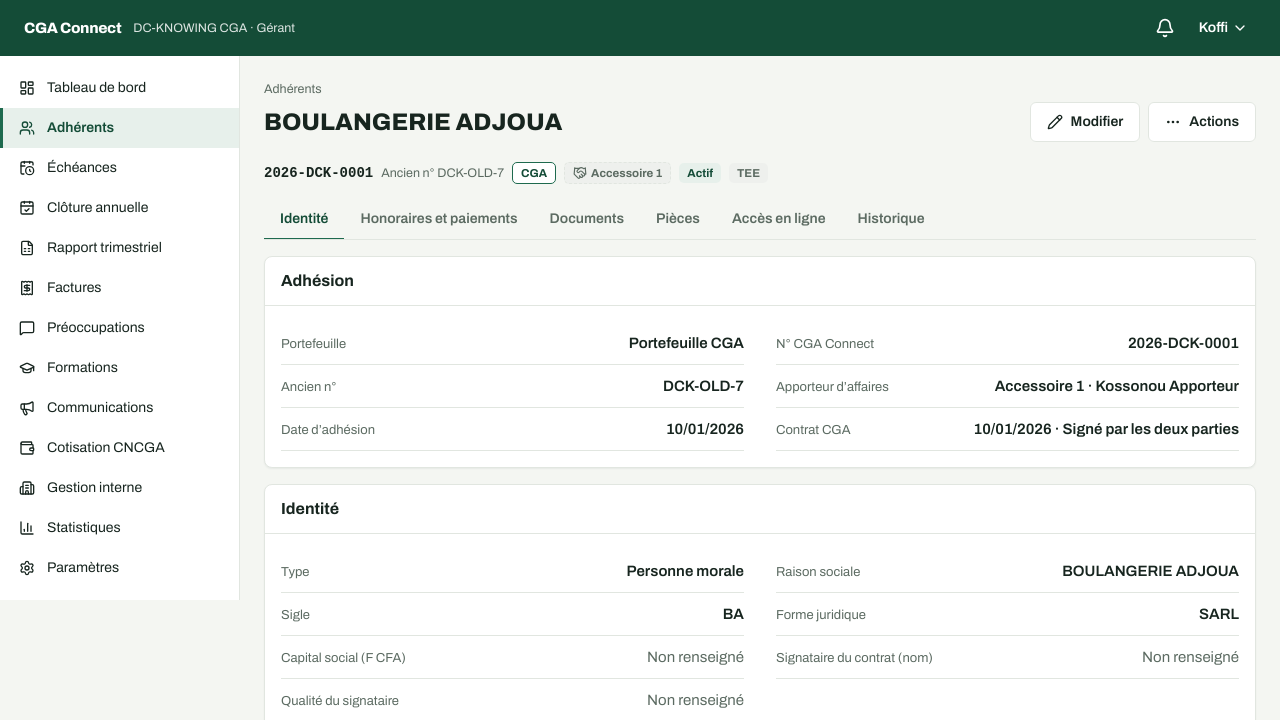
/cga/adherents/:id · Honoraires et paiements (F-PAY-01 à 03) › F-PAY-03 · paiement déclaré par l’adhérent : « Examiner » → Confirmer, reçu attribué
This screenshot has width=1280, height=720.
Expected: the heading "BOULANGERIE ADJOUA" is shown, [264,106,562,138]
Step 1. Click the tab "Honoraires et paiements" → (439, 220), box [344,200,534,240]
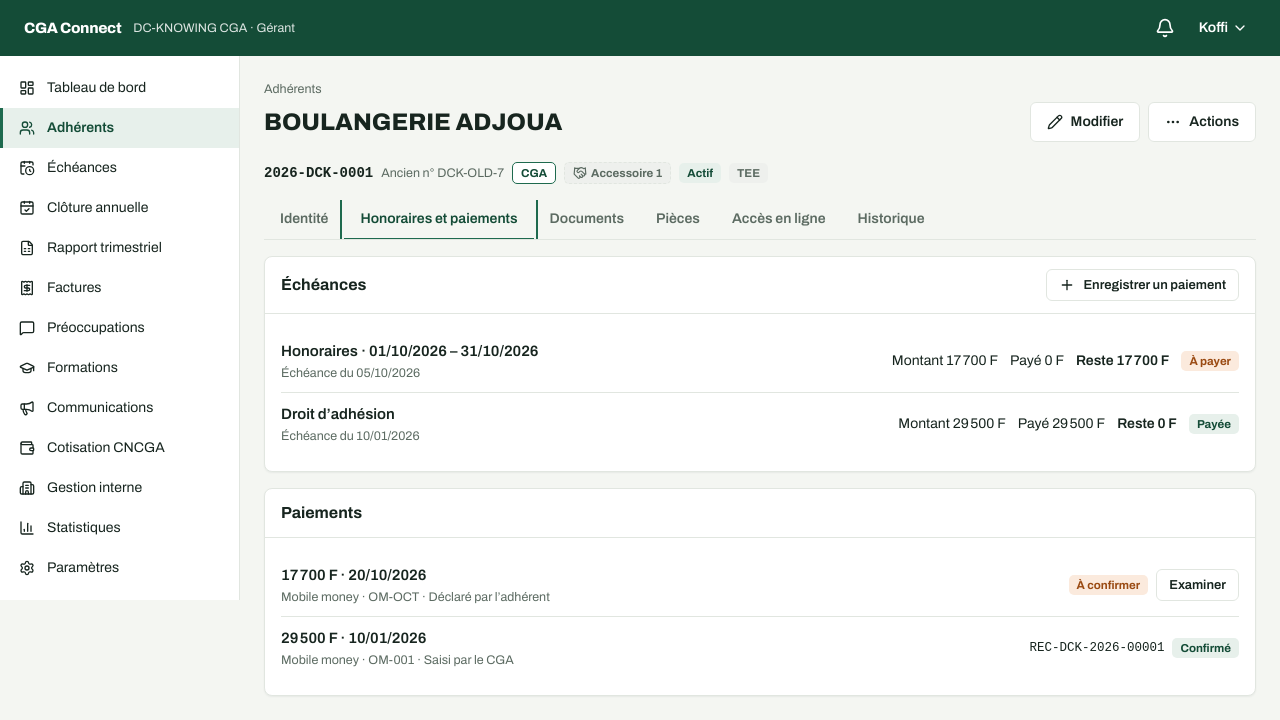
Step 2. Click the button "Examiner" → (1198, 585), box [1156,569,1239,601]
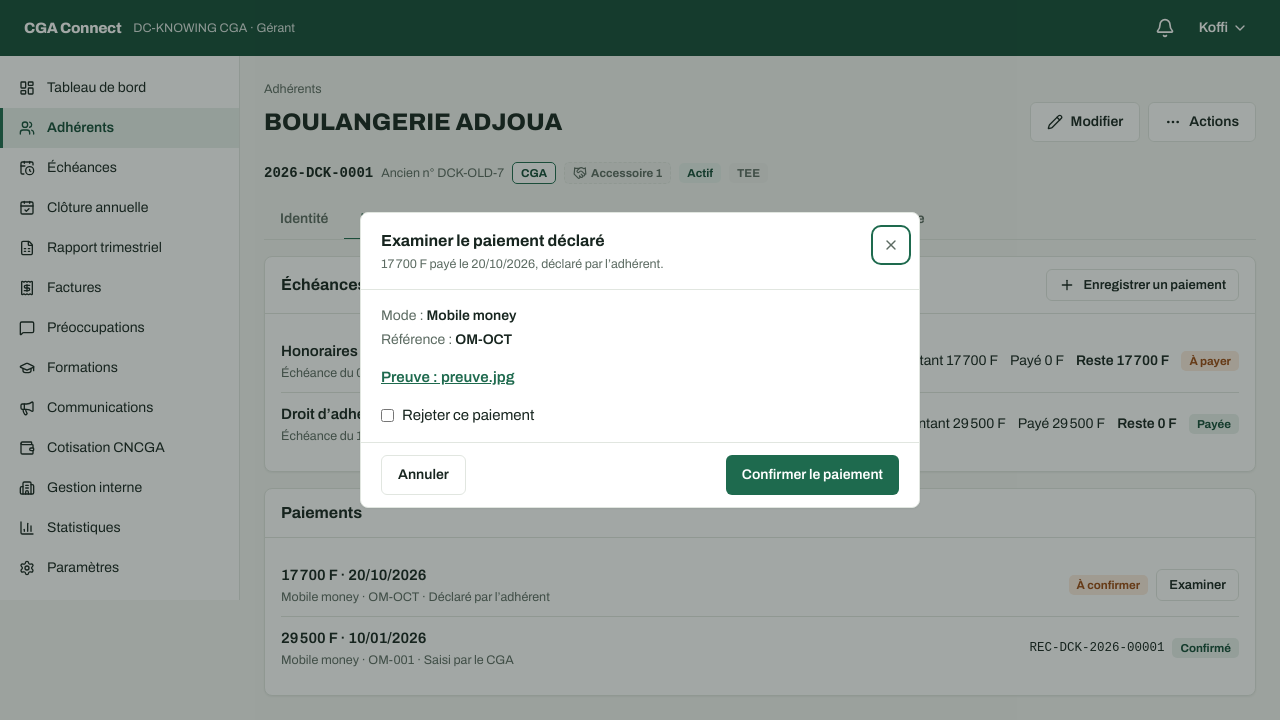
Step 3. Click the button "Confirmer le paiement" → (812, 475), box [726,455,899,495]
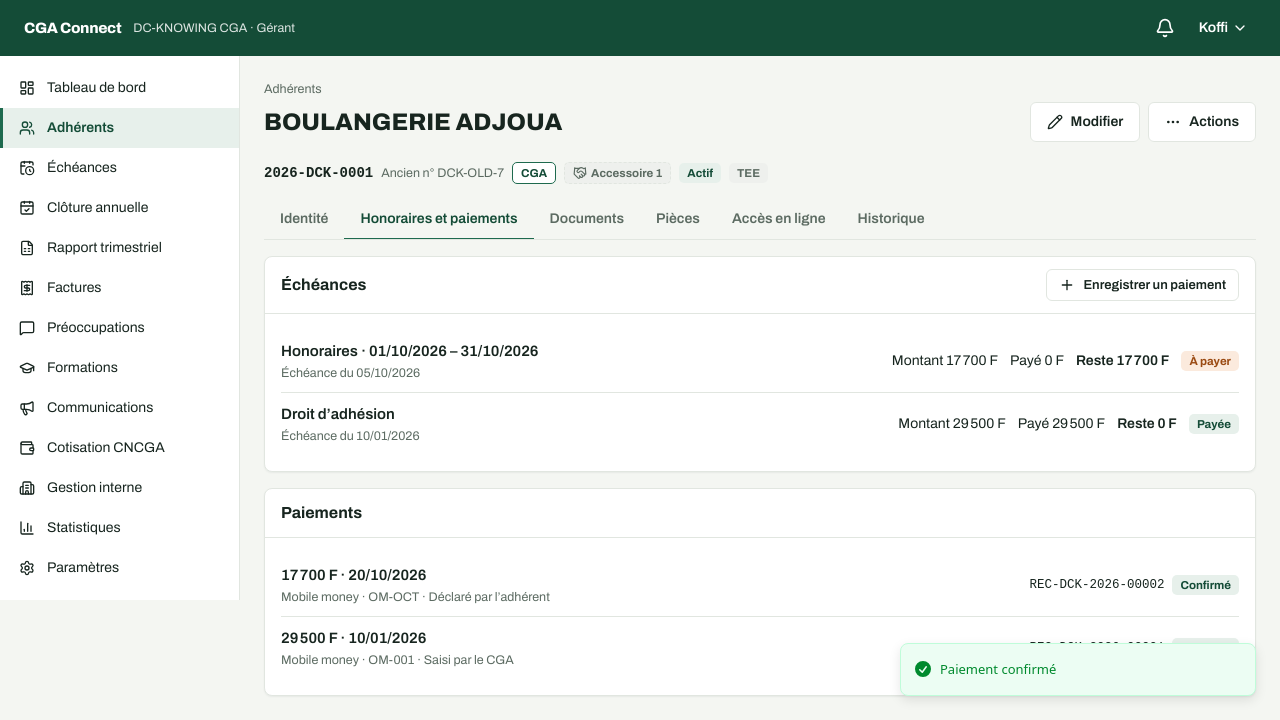
Expected: the text "Paiement confirmé" is shown, [940,660,1056,679]
Expected: the text "REC-DCK-2026-00002" is shown, [1029,576,1164,594]
Expected: the button "Examiner" is gone
